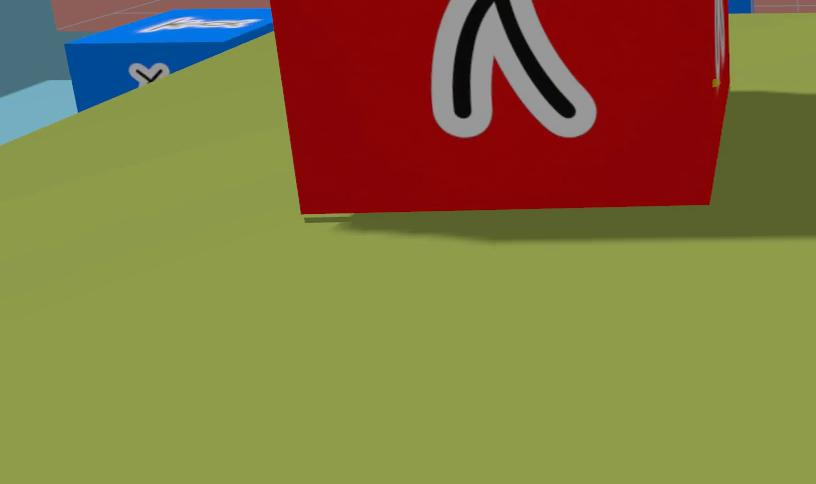KFS_FAKE: (271, 0, 732, 214), (430, 0, 595, 137)
KFS_REAL: (64, 8, 272, 111)
